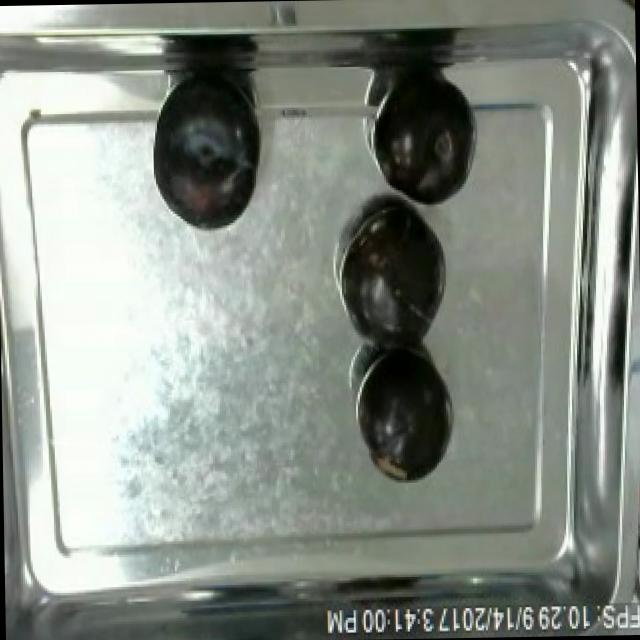Fruit: (146, 70, 268, 238), (370, 68, 476, 212), (344, 201, 450, 342), (356, 344, 458, 486)
